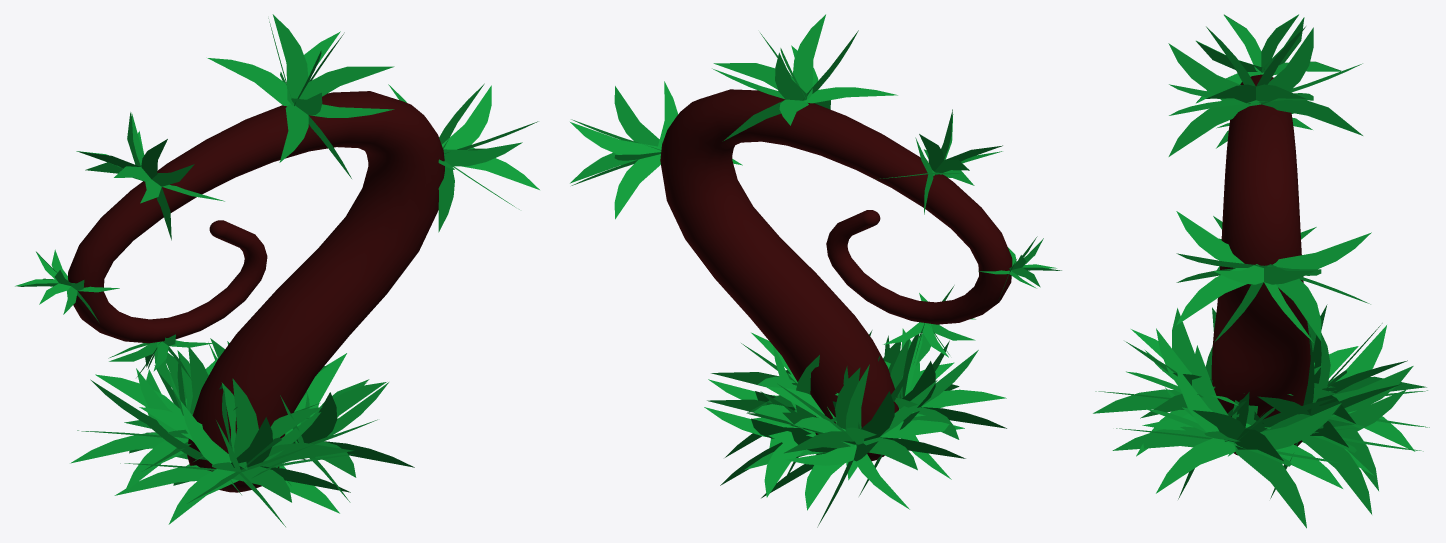
File: plant5.fbx
3 renders of one model, left to right at view 1: azimuth 30°, elevation 25°; view 2: azimuth 150°, elevation 25°; view 3: azimuth 270°, elevation 25°, orthographic. The views are drawn at different scales.
Visible parts, largest first — view 1: Stem_2, Leaves; view 2: Stem_2, Leaves; view 3: Leaves, Stem_2.
Part boxes in pixels (x1,y1,x2,y2): Stem_2: [68, 91, 444, 492]; Leaves: [15, 14, 539, 526]; Stem_2: [660, 89, 1012, 460]; Leaves: [570, 14, 1061, 527]; Leaves: [1093, 14, 1429, 528]; Stem_2: [1211, 74, 1310, 455].
Size of the model in its own units: 2.64 by 2.34 by 1.52.
